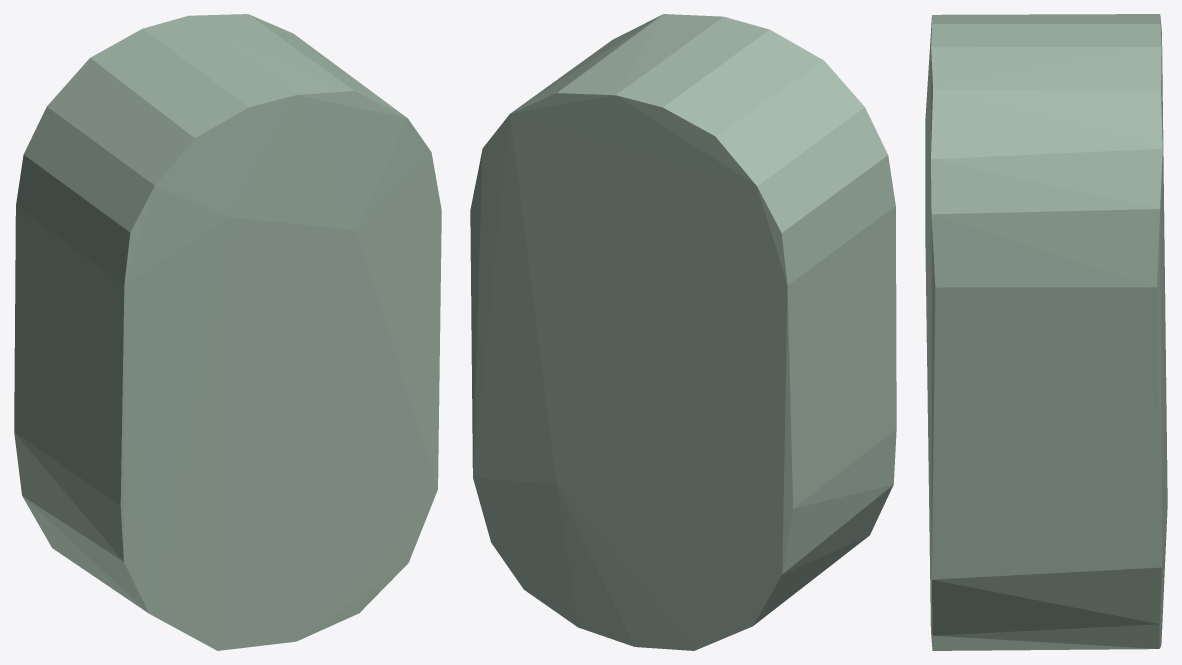
The model's file is name-text-c-collider.glb.
3 renders of one model, left to right at view 1: azimuth 30°, elevation 25°; view 2: azimuth 150°, elevation 25°; view 3: azimuth 270°, elevation 25°, orthographic. The views are drawn at different scales.
Visible parts, largest first — view 1: world; view 2: world; view 3: world.
Part boxes in pixels (<box>): world: <box>14,14,441,650</box>; world: <box>470,14,896,650</box>; world: <box>925,14,1167,650</box>.
Size of the model in its own units: 0.6757 by 1.09 by 0.4103.
